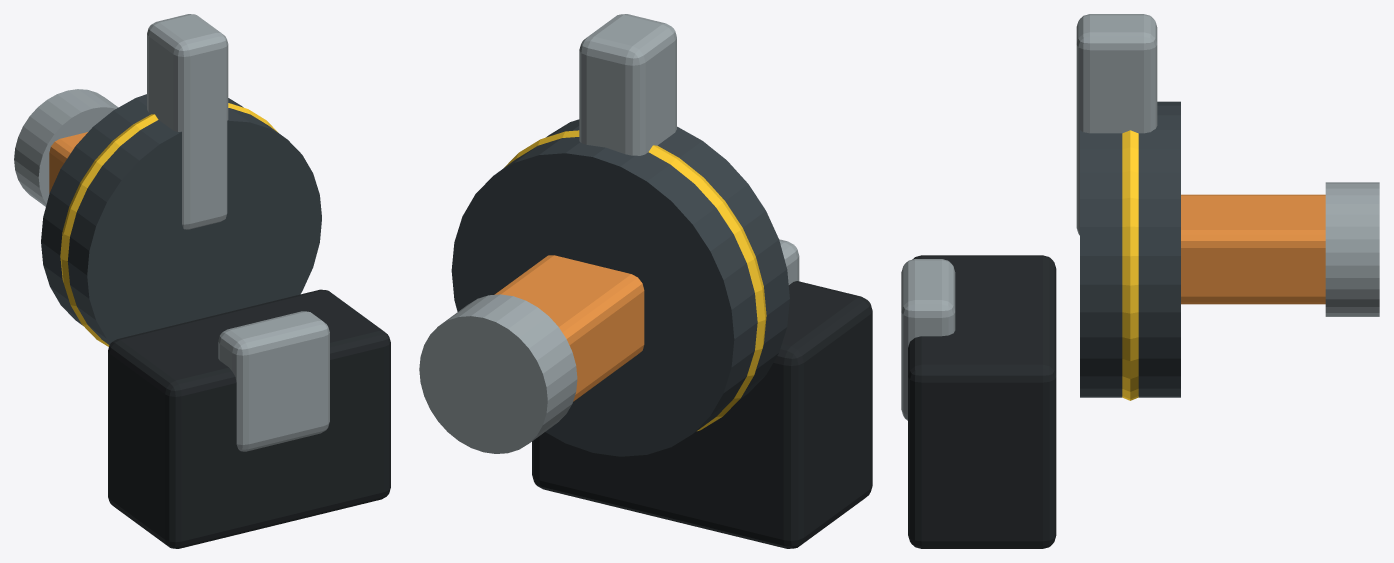
The model's file is zipline_variant_d.glb.
The picture shows the model from 3 angles, left to right: view 1: azimuth 30°, elevation 25°; view 2: azimuth 150°, elevation 25°; view 3: azimuth 270°, elevation 25°; orthographic projection. The views are drawn at different scales.
Parts seen in each view (by area): view 1: Grip handle, Cable spool, Modular attachment rail, Trigger guard, Attachment eye, Spool rim, Cable guide; view 2: Cable spool, Grip handle, Attachment eye, Modular attachment rail, Cable guide, Spool rim, Trigger guard; view 3: Grip handle, Cable spool, Cable guide, Modular attachment rail, Attachment eye, Trigger guard, Spool rim.
Part boxes in pixels (left/top/right/bottom): Grip handle: left=108, top=289, right=390, bottom=548; Cable spool: left=41, top=94, right=321, bottom=344; Modular attachment rail: left=147, top=14, right=228, bottom=229; Trigger guard: left=218, top=311, right=329, bottom=451; Attachment eye: left=14, top=89, right=118, bottom=206; Spool rim: left=60, top=103, right=278, bottom=346; Cable guide: left=49, top=132, right=87, bottom=193; Cable spool: left=451, top=119, right=789, bottom=456; Grip handle: left=532, top=281, right=872, bottom=548; Attachment eye: left=419, top=294, right=577, bottom=453; Modular attachment rail: left=579, top=14, right=676, bottom=155; Cable guide: left=494, top=255, right=644, bottom=401; Spool rim: left=504, top=130, right=766, bottom=431; Trigger guard: left=779, top=239, right=799, bottom=284; Grip handle: left=908, top=255, right=1056, bottom=548; Cable spool: left=1080, top=101, right=1180, bottom=397; Cable guide: left=1181, top=194, right=1325, bottom=304; Modular attachment rail: left=1076, top=14, right=1157, bottom=235; Attachment eye: left=1325, top=182, right=1379, bottom=316; Trigger guard: left=901, top=259, right=955, bottom=420; Spool rim: left=1122, top=130, right=1138, bottom=400.
Size of what is drawn, in the model's own units: 0.45 by 0.77 by 0.71.
